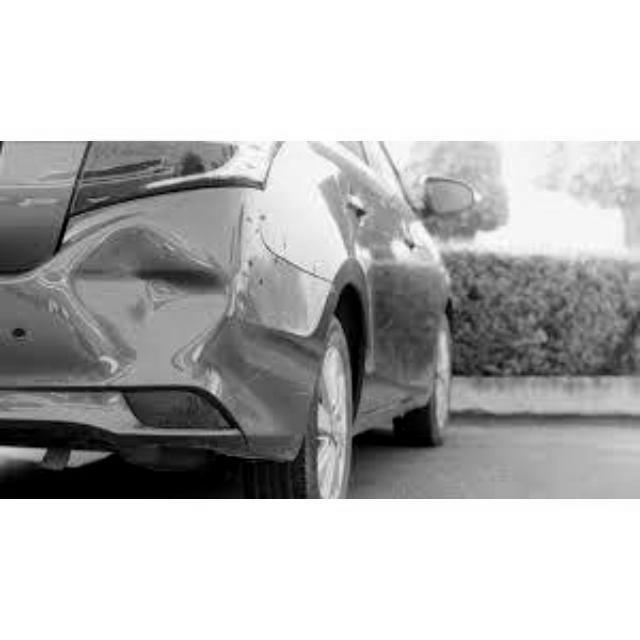rear-bumper-dent: (0, 188, 302, 458)
